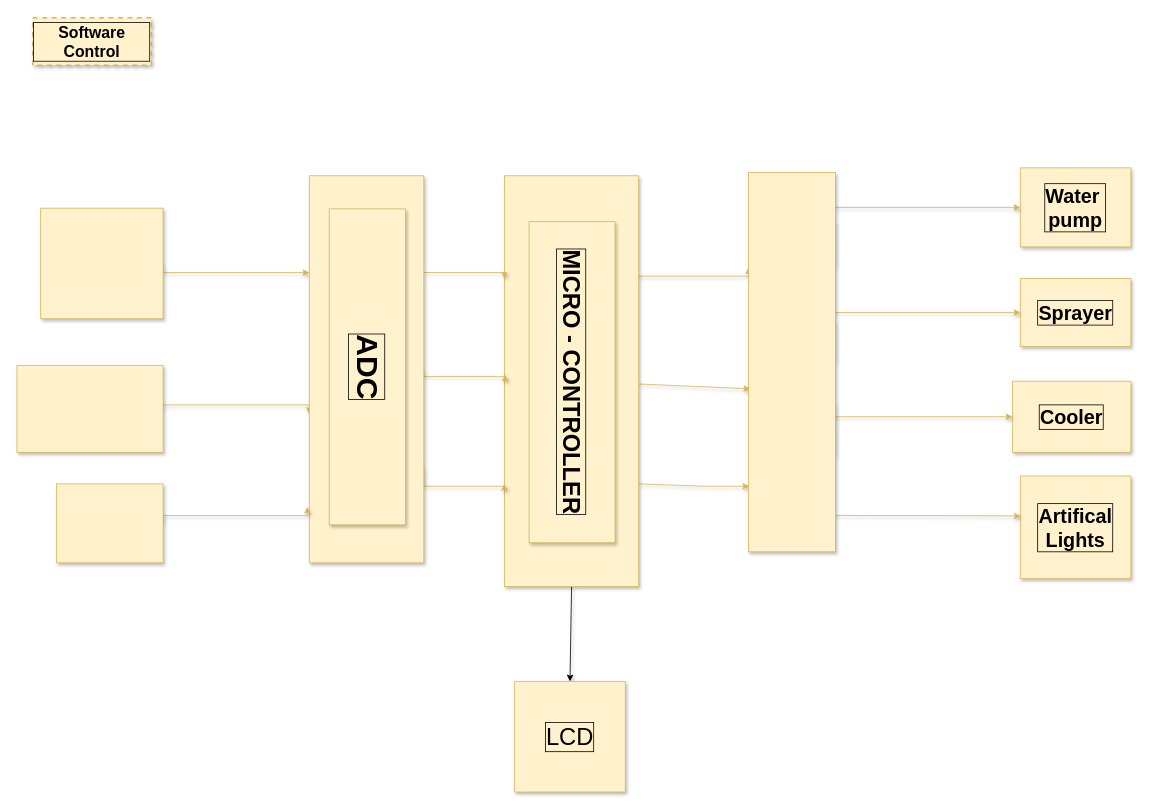
The diagram is 1149 pixels wide and 811 high, and some of its shapes have lost their labels. The shapes that lost their labels are listed below. From the top down, each one's centre as x and y in pixels, then its label:
At point 102,264: "Humidity Sensor".
At point 792,363: "Interface".
At point 90,409: "Tempreture Sensor".
At point 110,524: "Light Sensor".
